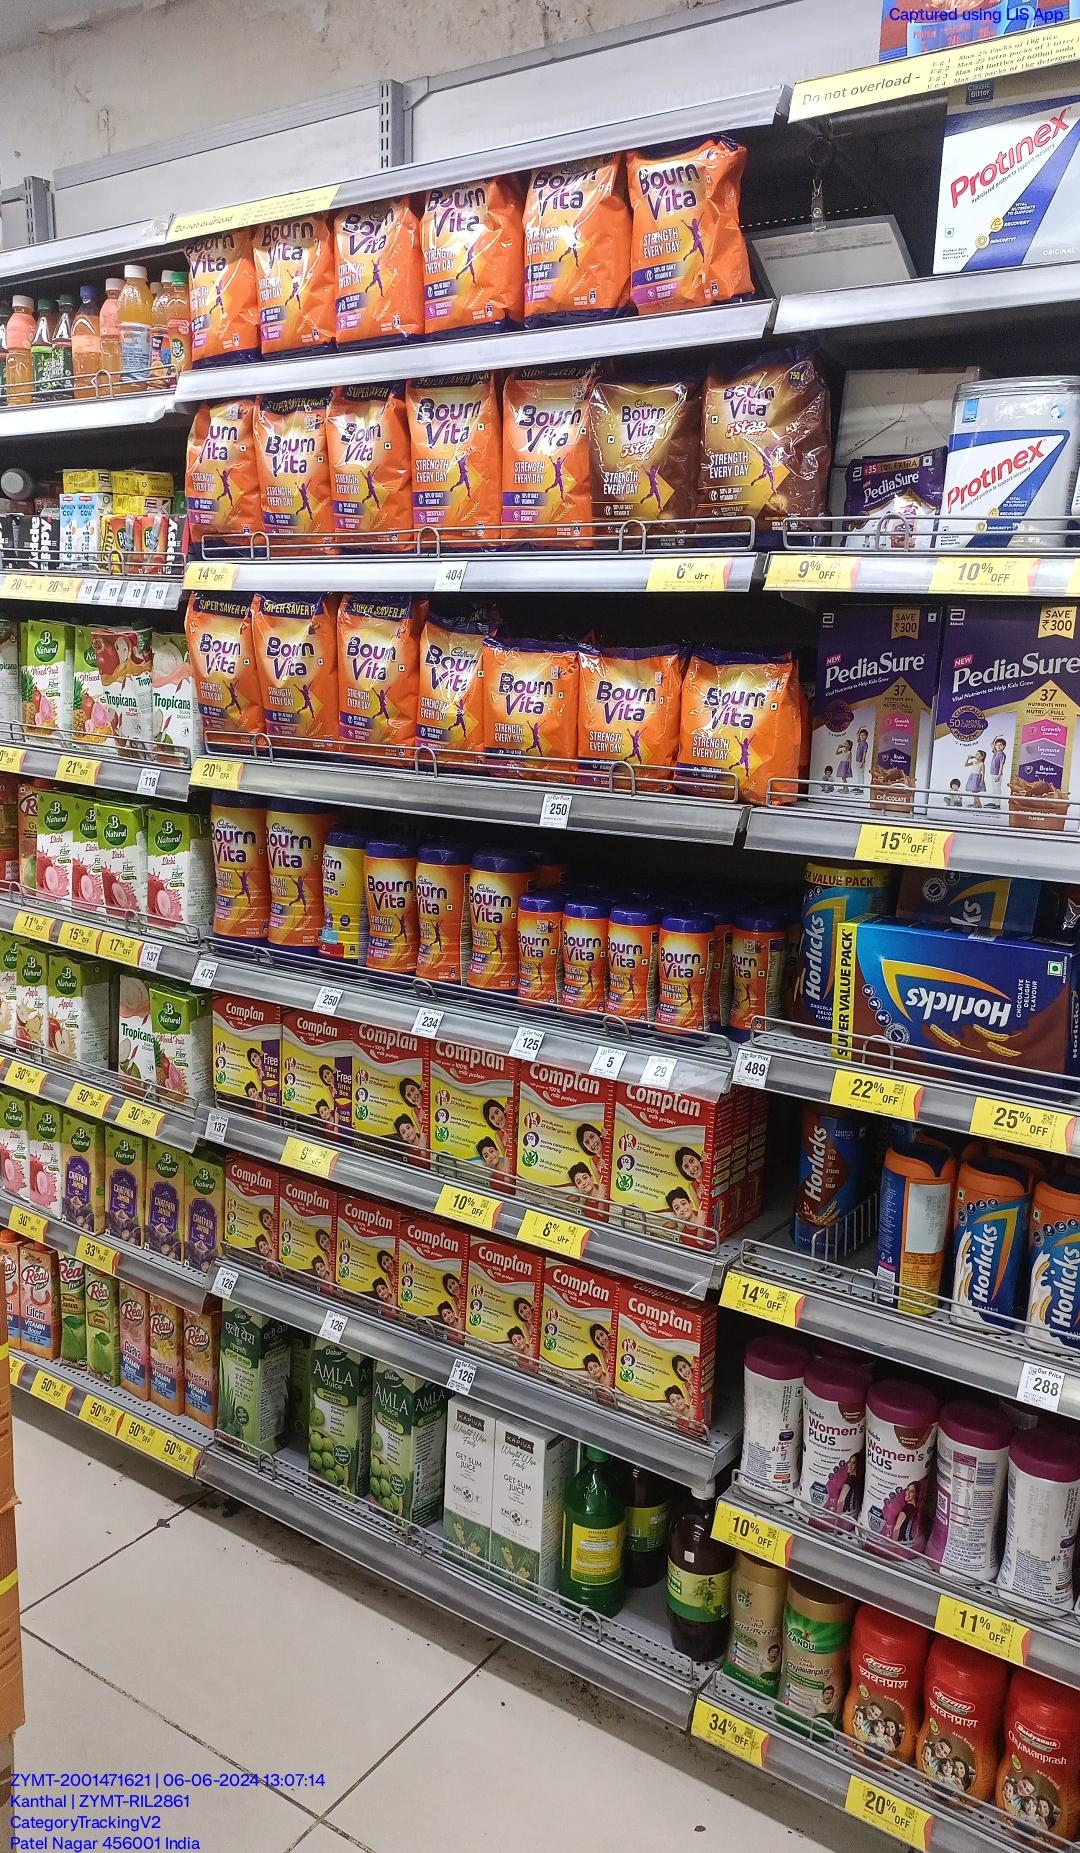BOURN_VITA_1_KG_JAR: (264, 801, 318, 971), (207, 795, 260, 965)
BOURN_VITA_200_G_JAR: (658, 915, 707, 1050), (514, 889, 557, 1018), (559, 897, 602, 1024), (607, 906, 648, 1032), (728, 921, 761, 1041)
BOURN_VITA_500_G_JAR: (468, 853, 512, 1015)
BOURN_VITA_CHAMPS_500_G_JAR: (321, 831, 365, 982)
BOURN_VITA_FIVE_STAR_MAGIC_750_G_POUCH: (703, 362, 819, 542), (591, 380, 696, 547)
COMPLAN_CHOCOLATE_200_GMS_PACK: (399, 1217, 463, 1338), (336, 1192, 396, 1316), (280, 1173, 333, 1289), (225, 1162, 276, 1273)
COMPLAN_CREAMY_CLASSIC_500_G_PACK: (427, 1036, 512, 1194)
COMPLAN_KESAR_BADAM_200_GMS_PACK: (618, 1288, 699, 1428), (545, 1257, 616, 1399), (468, 1241, 539, 1371)
HORLICK_CHOCOLATE_500_G_JAR: (789, 1097, 854, 1262)
PEDIASURE_VANILLA_500_G_PACK: (944, 605, 1080, 834), (811, 604, 927, 807)
PROTINEX_ORIGINAL_400_G_JAR: (946, 375, 1072, 555)
